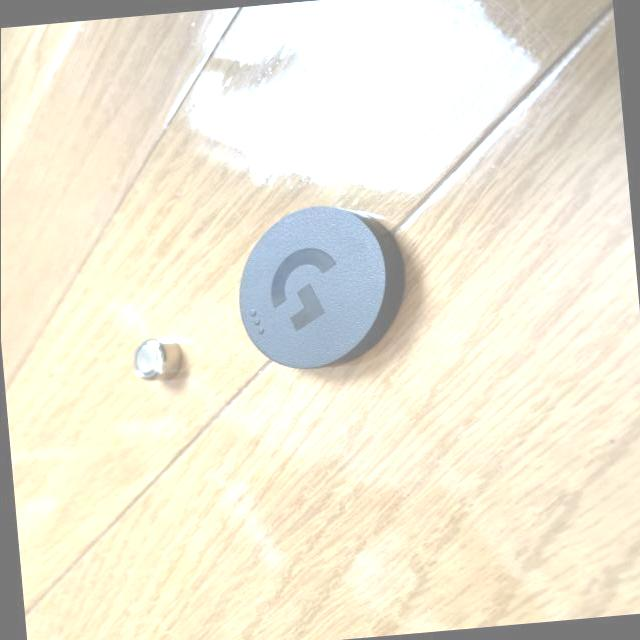COIN: (130, 336, 186, 382)
